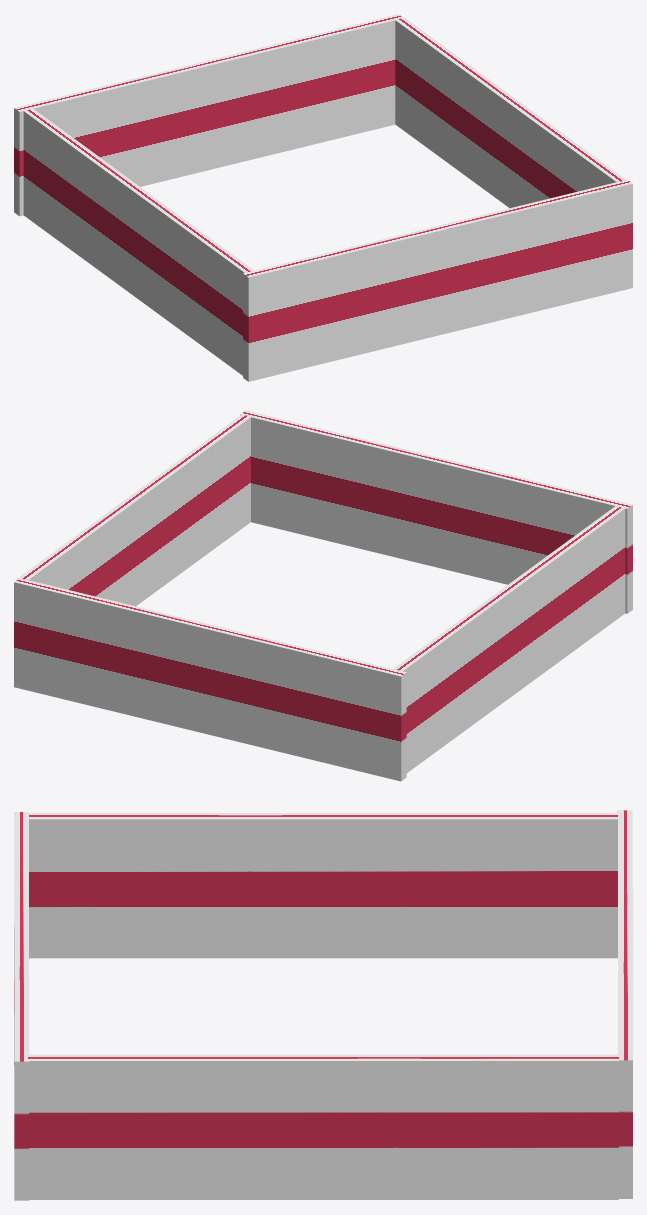
The model's file is 術式反転赤.fbx.
The picture shows the model from 3 angles, top to bottom: view 1: azimuth 30°, elevation 25°; view 2: azimuth 150°, elevation 25°; view 3: azimuth 270°, elevation 25°; orthographic projection. The views are drawn at different scales.
Parts seen in each view (by area): view 1: Cube, Cube.003, Cube.002, Cube.001; view 2: Cube.003, Cube, Cube.002, Cube.001; view 3: Cube.001, Cube.002, Cube, Cube.003.
Boxes of the visible parts, x1=… form: Cube: x1=243, y1=179, x2=632, y2=381; Cube.003: x1=14, y1=14, x2=403, y2=216; Cube.002: x1=23, y1=108, x2=253, y2=375; Cube.001: x1=395, y1=17, x2=626, y2=207; Cube.003: x1=14, y1=578, x2=406, y2=781; Cube: x1=240, y1=410, x2=632, y2=613; Cube.002: x1=393, y1=506, x2=625, y2=772; Cube.001: x1=18, y1=414, x2=250, y2=606; Cube.001: x1=28, y1=1054, x2=618, y2=1199; Cube.002: x1=29, y1=813, x2=617, y2=958; Cube: x1=14, y1=812, x2=29, y2=1200; Cube.003: x1=617, y1=810, x2=632, y2=1198.
Size of the model in its own units: 1262 by 326 by 1315.
